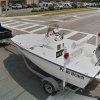Boat: (5, 24, 100, 91)
